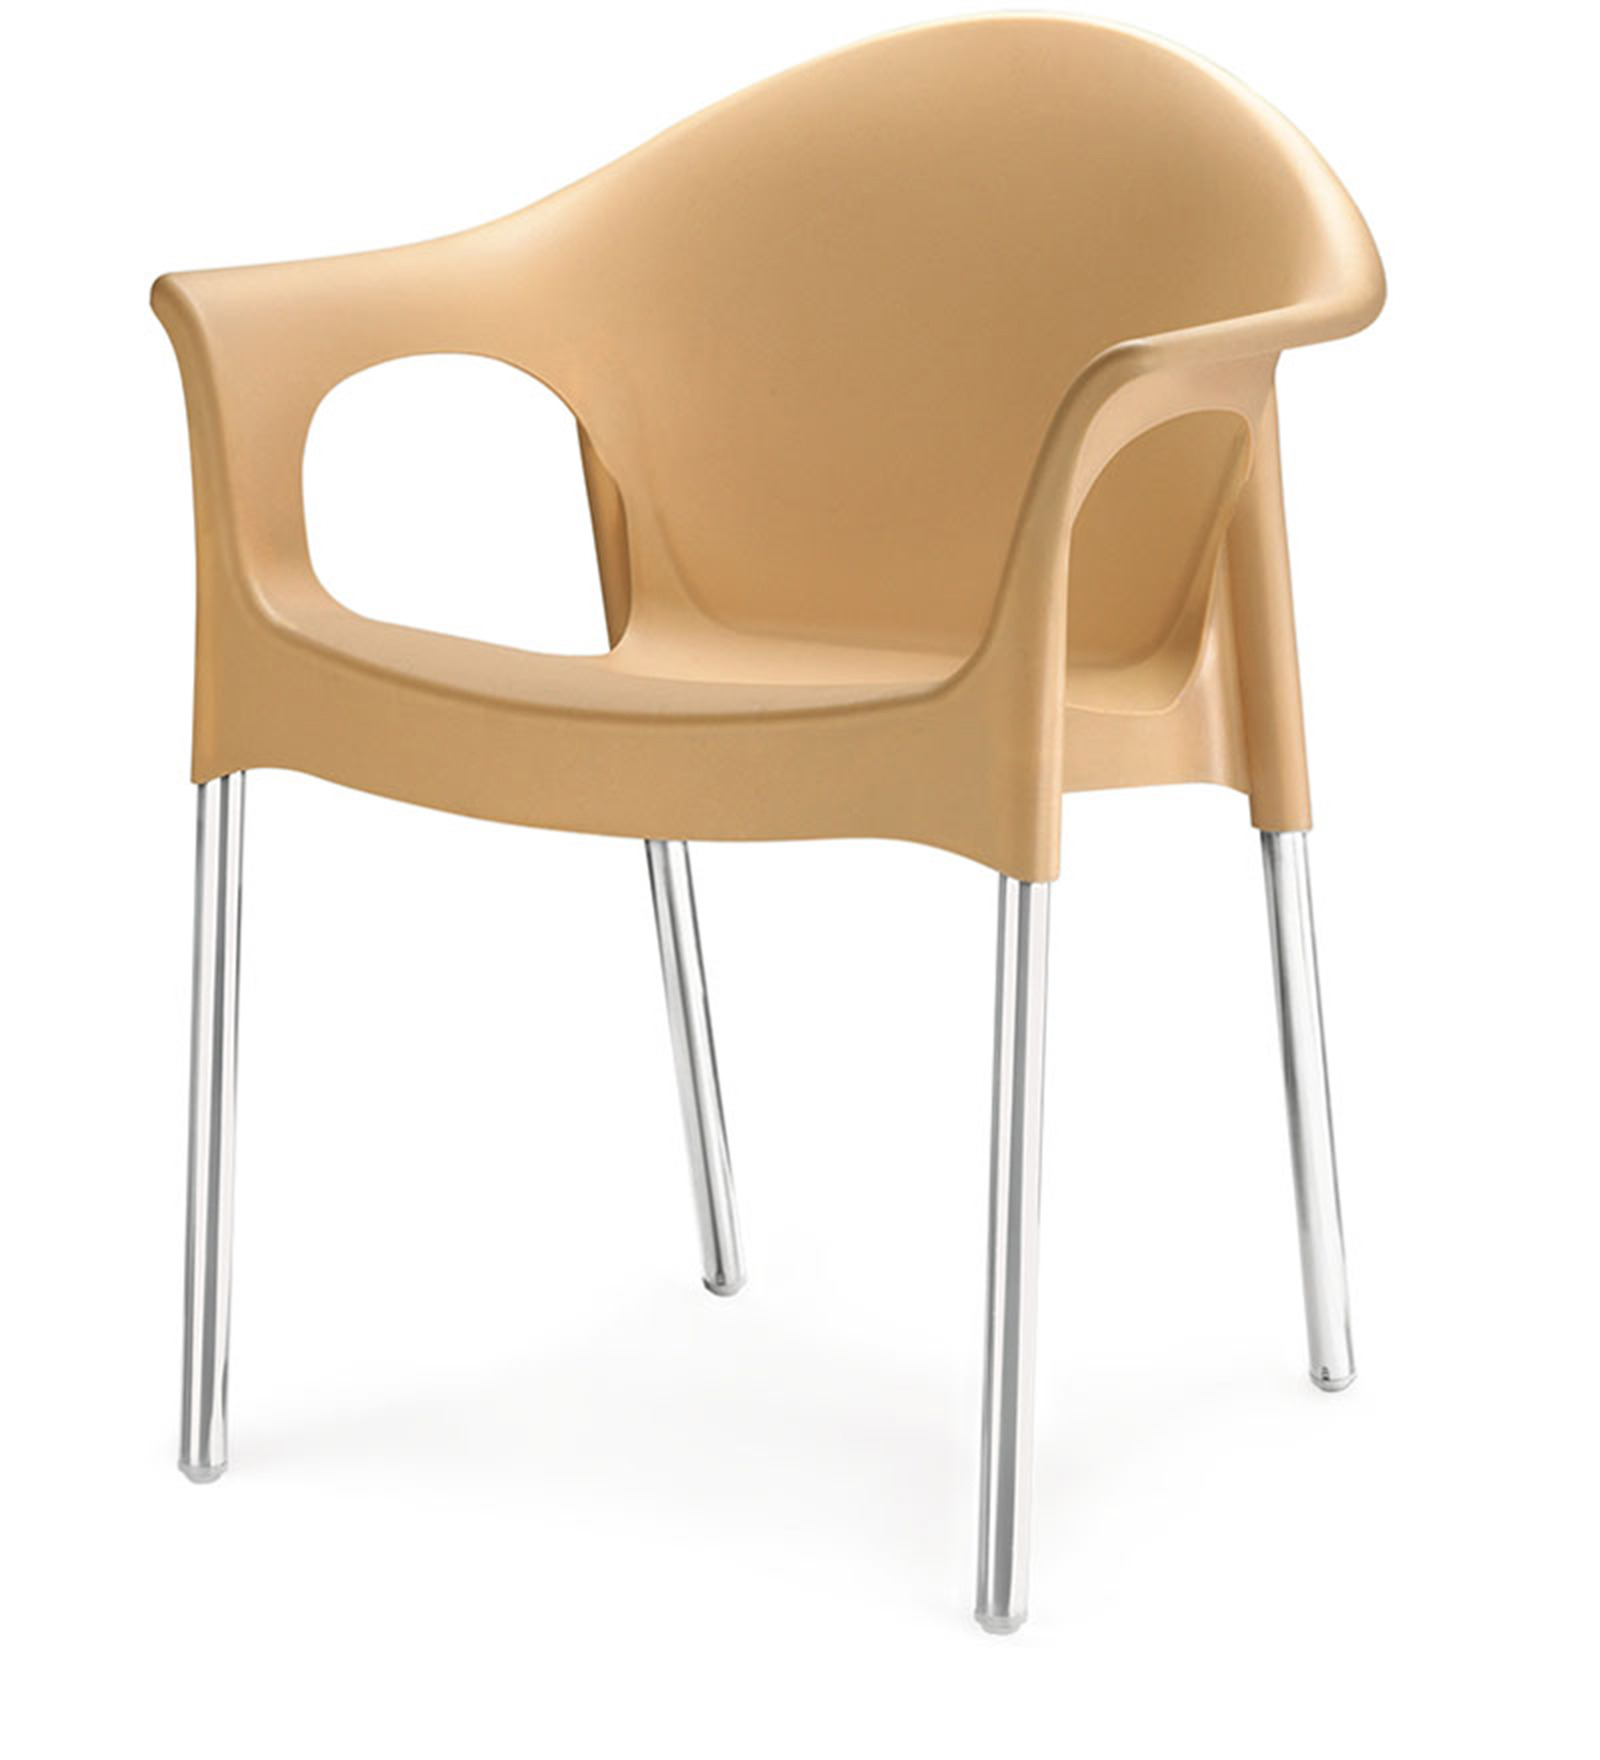Novella Chair in Biscuit Colour by Nilkamal: (139, 14, 1401, 1634)
